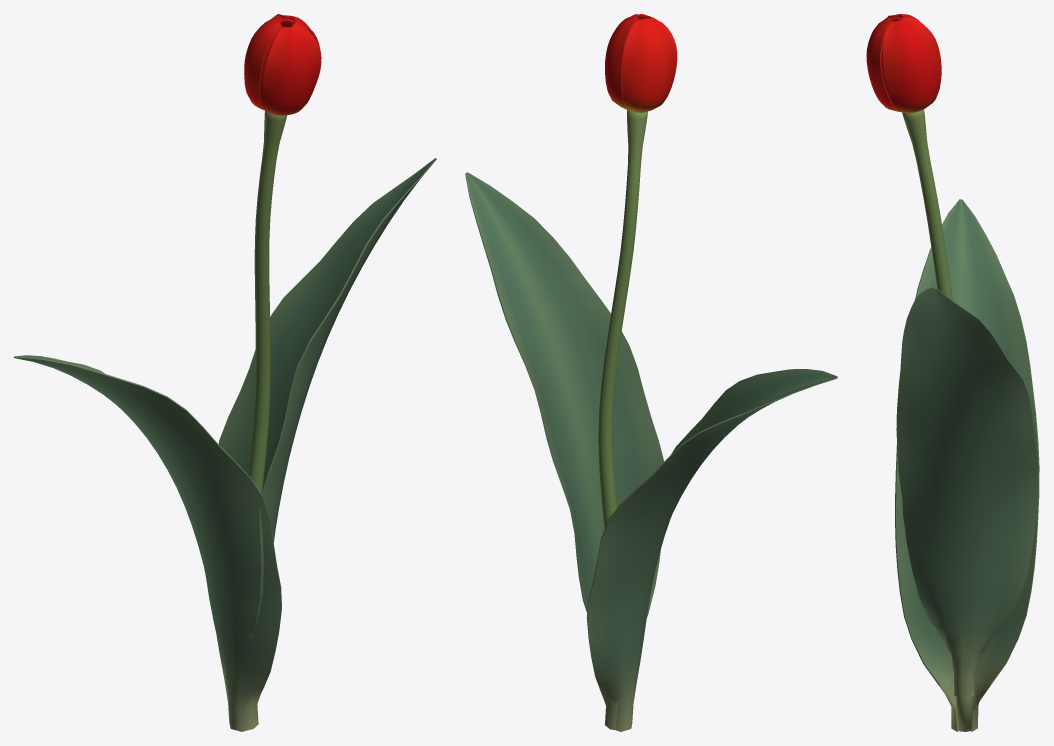
File: closed-red.glb
3 renders of one model, left to right at view 1: azimuth 30°, elevation 25°; view 2: azimuth 150°, elevation 25°; view 3: azimuth 270°, elevation 25°, orthographic. The views are drawn at different scales.
Parts seen in each view (by area): view 1: tulip-closed-red; view 2: tulip-closed-red; view 3: tulip-closed-red.
Part boxes in pixels (x1=…): tulip-closed-red: x1=14, y1=14, x2=436, y2=731; tulip-closed-red: x1=465, y1=14, x2=837, y2=731; tulip-closed-red: x1=866, y1=14, x2=1039, y2=731.
Size of the model in its own units: 0.2132 by 0.3631 by 0.0797.
